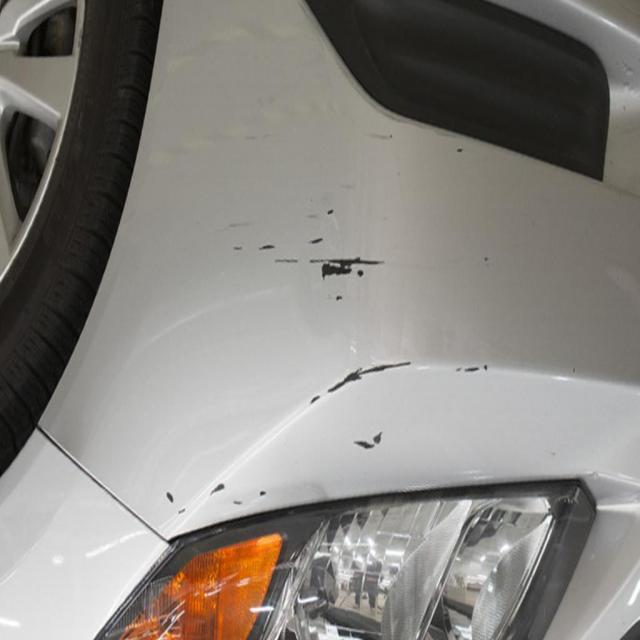scratch: (211, 162, 472, 497)
